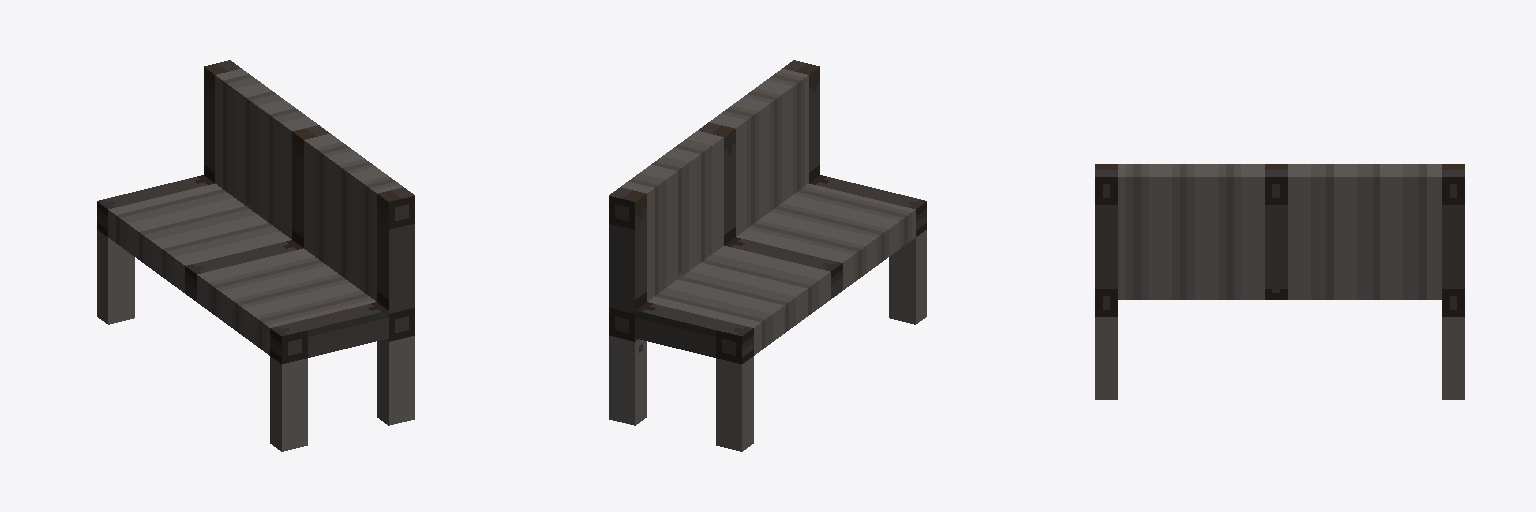
3 views of the same model, side by side, from view 1: azimuth 30°, elevation 25°; view 2: azimuth 150°, elevation 25°; view 3: azimuth 270°, elevation 25° (orthographic).
Parts seen in each view (by area): view 1: cuboid; view 2: cuboid; view 3: cuboid.
Boxes of the visible parts, x1,y1,x2,y2 form: cuboid: [97, 60, 414, 451]; cuboid: [609, 60, 926, 451]; cuboid: [1095, 164, 1464, 399].
Size of the model in its own units: 1.25 by 2 by 3.
Materials: 1 (1 with a texture image).